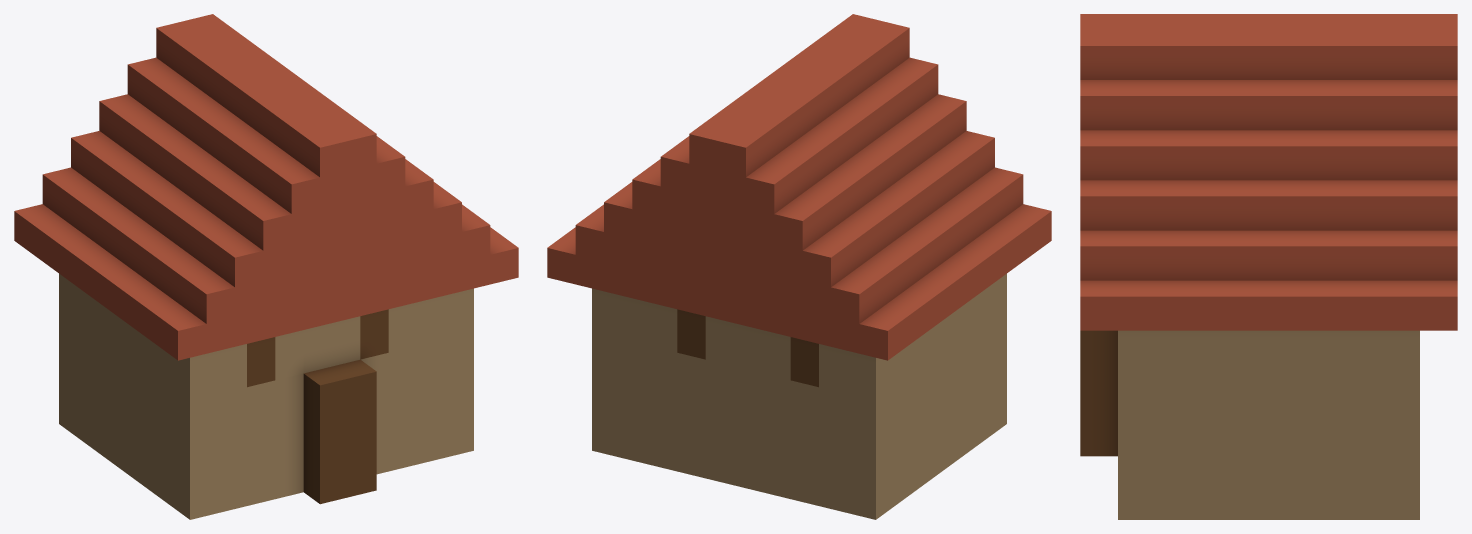
Rendered from c_house.glb.
3 views of the same model, side by side, from view 1: azimuth 30°, elevation 25°; view 2: azimuth 150°, elevation 25°; view 3: azimuth 270°, elevation 25° (orthographic). The views are drawn at different scales.
Visible parts, largest first — view 1: c_house_body; view 2: c_house_body; view 3: c_house_body.
Part boxes in pixels (box(x1,y1,x2,y2)): c_house_body: box(14, 14, 518, 519); c_house_body: box(547, 14, 1051, 519); c_house_body: box(1080, 14, 1457, 519).
Bounding box in the file's own units: 0.75 × 0.75 × 0.625.
1 material, 1 textured.
